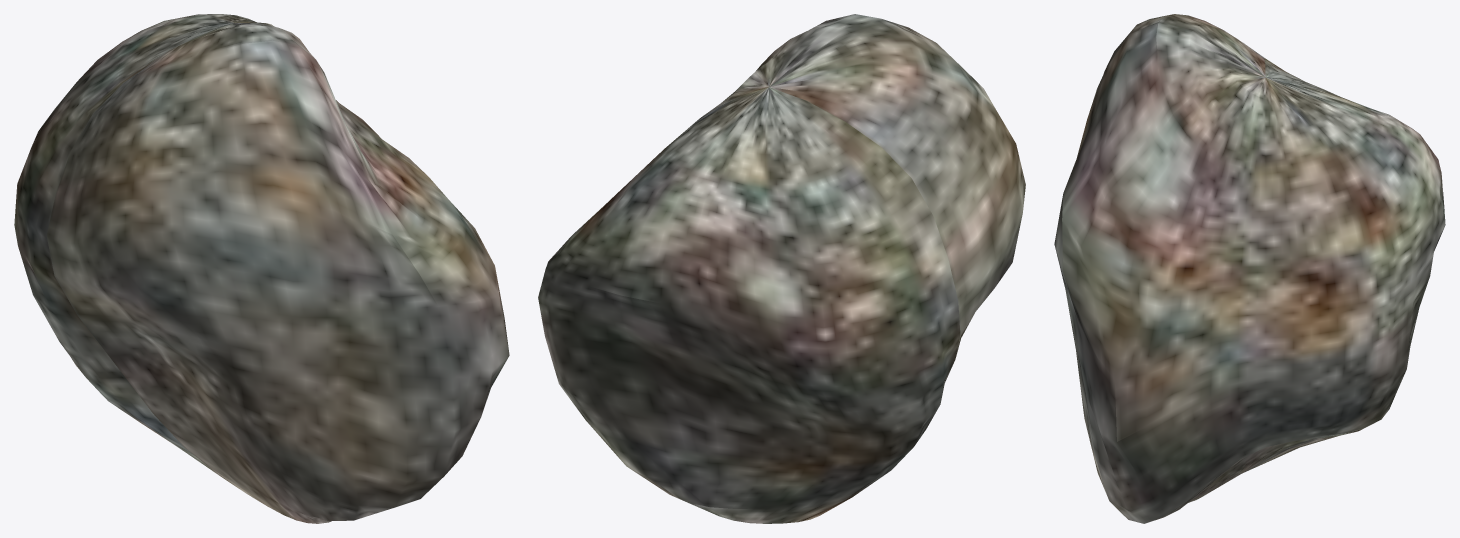
File: Meteo_04.fbx
The picture shows the model from 3 angles, left to right: view 1: azimuth 30°, elevation 25°; view 2: azimuth 150°, elevation 25°; view 3: azimuth 270°, elevation 25°; orthographic projection. The views are drawn at different scales.
Parts seen in each view (by area): view 1: Meteo_04; view 2: Meteo_04; view 3: Meteo_04.
Boxes of the visible parts, bbox=[...] form: Meteo_04: bbox=[14, 14, 509, 523]; Meteo_04: bbox=[538, 14, 1025, 523]; Meteo_04: bbox=[1054, 14, 1445, 523].
Size of the model in its own units: 307 by 367 by 294.
